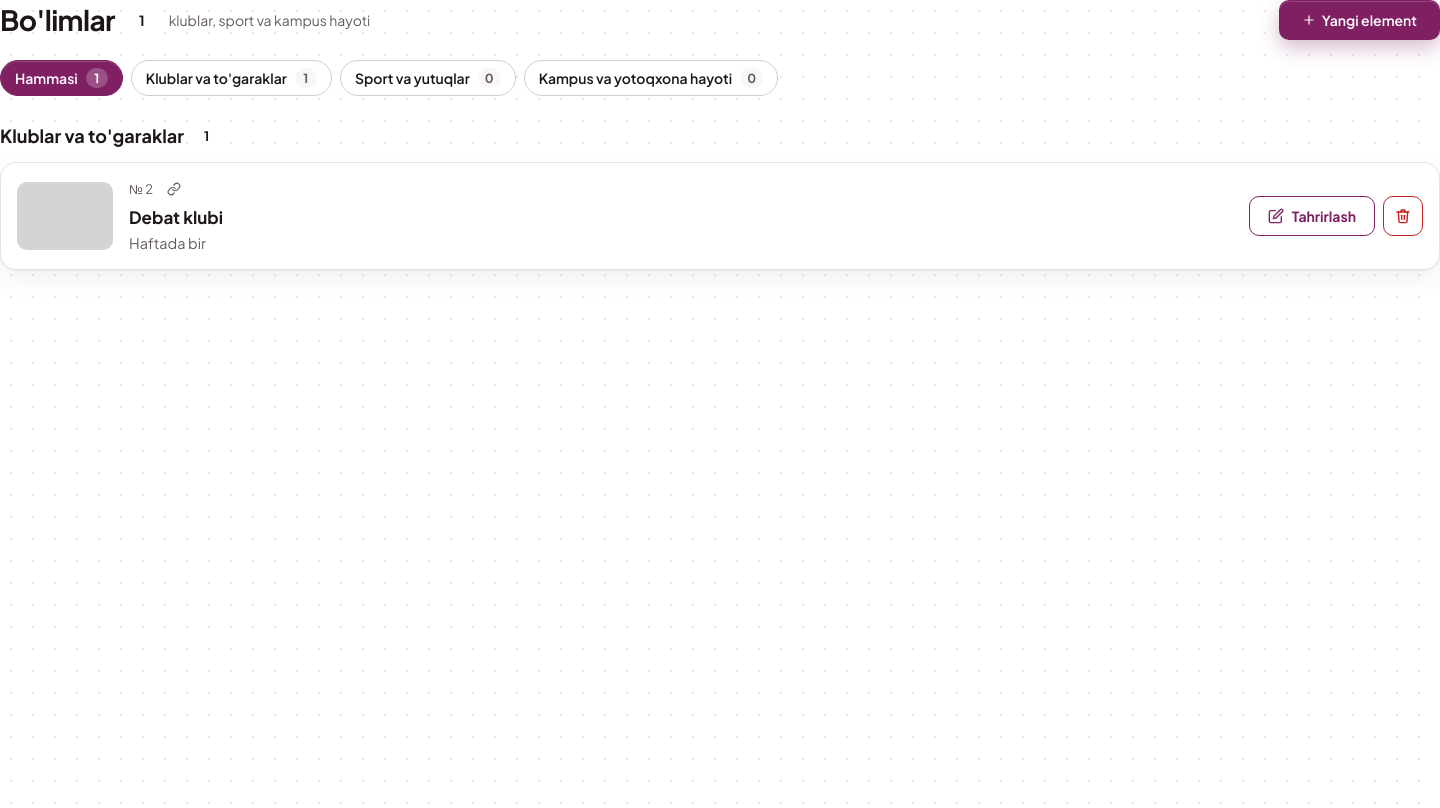
SectionsAdmin: forma › havola javascript:alert(1) rad etiladi (so'rov ketmaydi)
Expected: the heading "Debat klubi" is shown, 129,206 -> 223,228
Step 1. Click the button "Yangi element" → (1359,20), box 1279,0 -> 1439,40
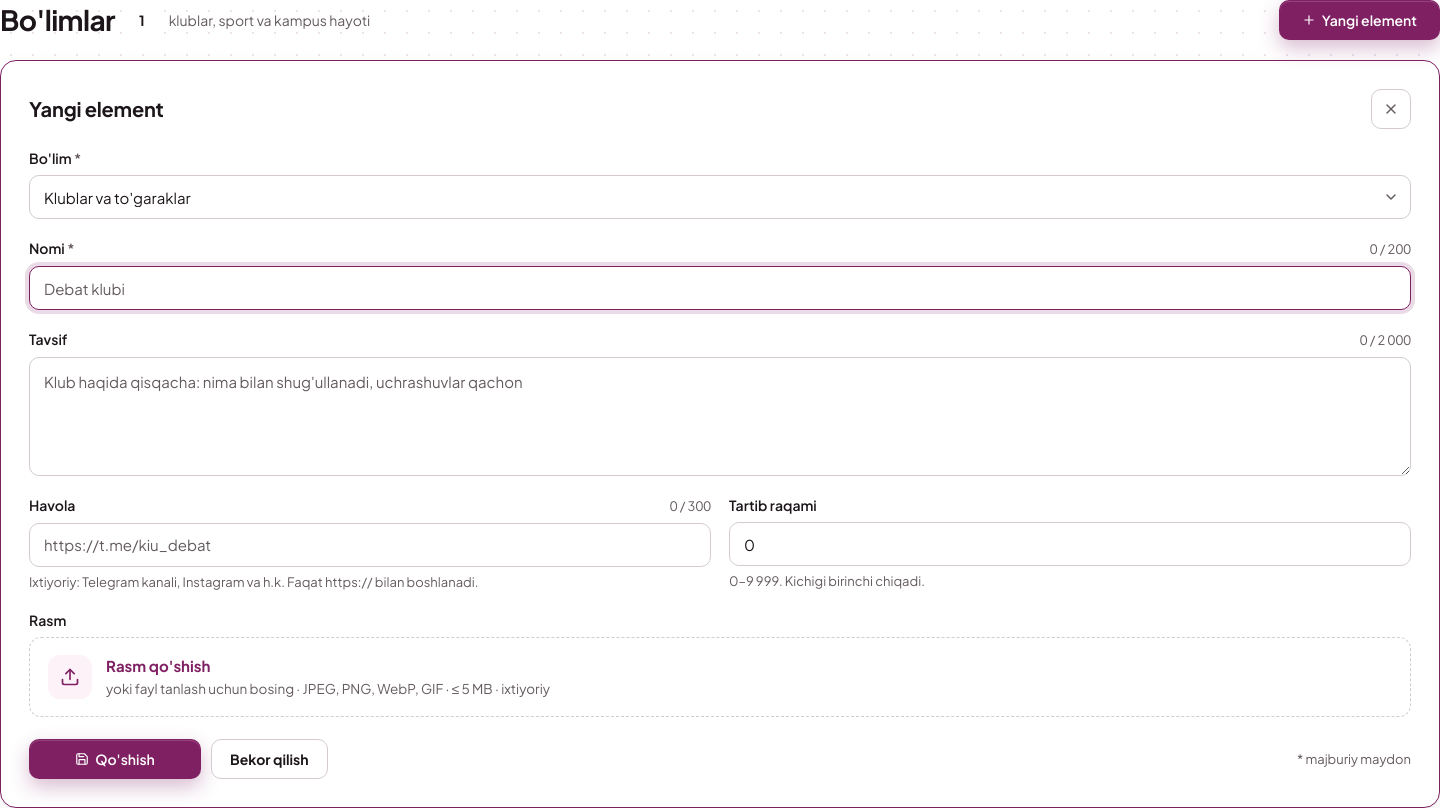
Step 2. Type "Klub" into the field labelled "Nomi *" → (720,288), box 29,266 -> 1411,310
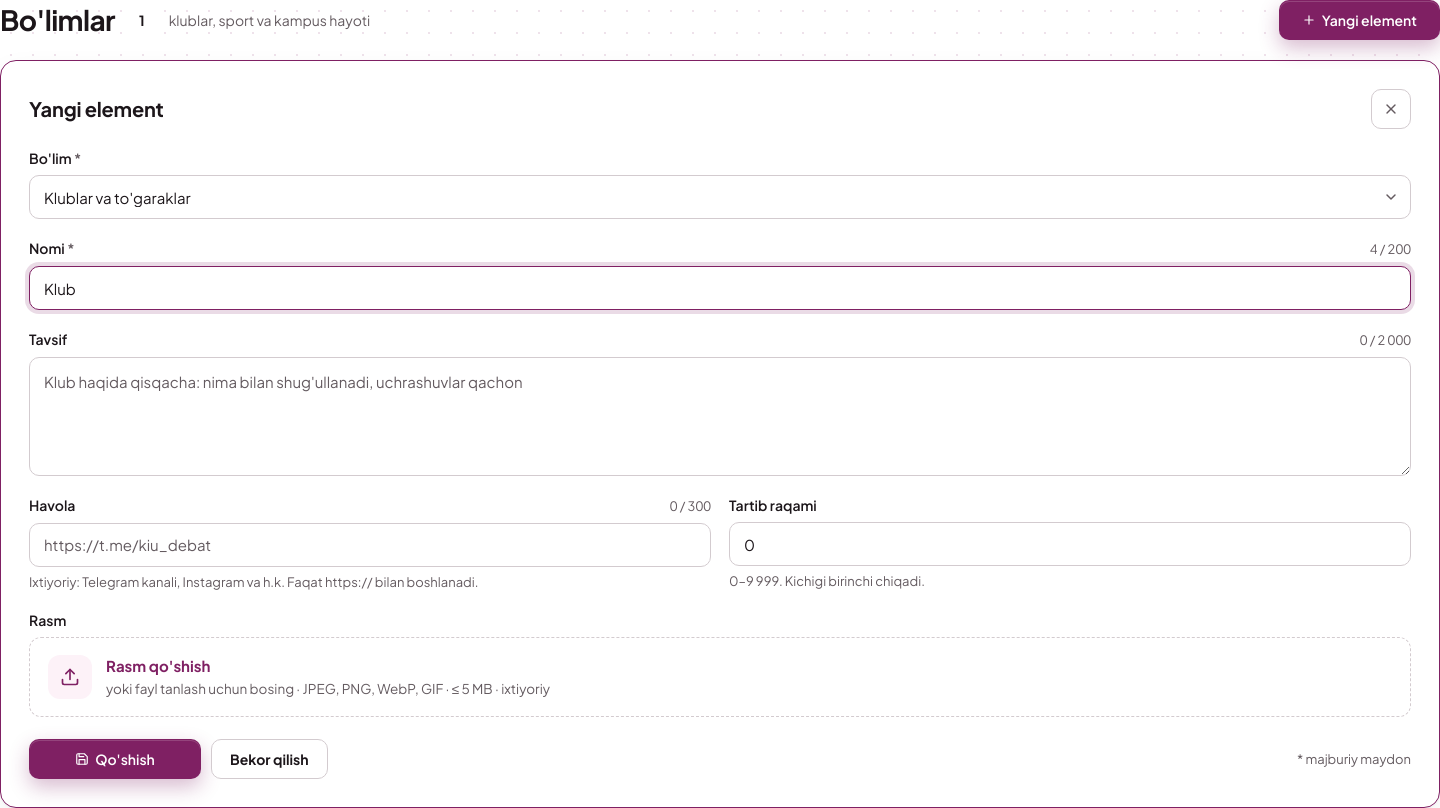
Step 3. Type "javascript:alert(1)" into the field labelled "Havola" → (370,545), box 29,523 -> 711,567
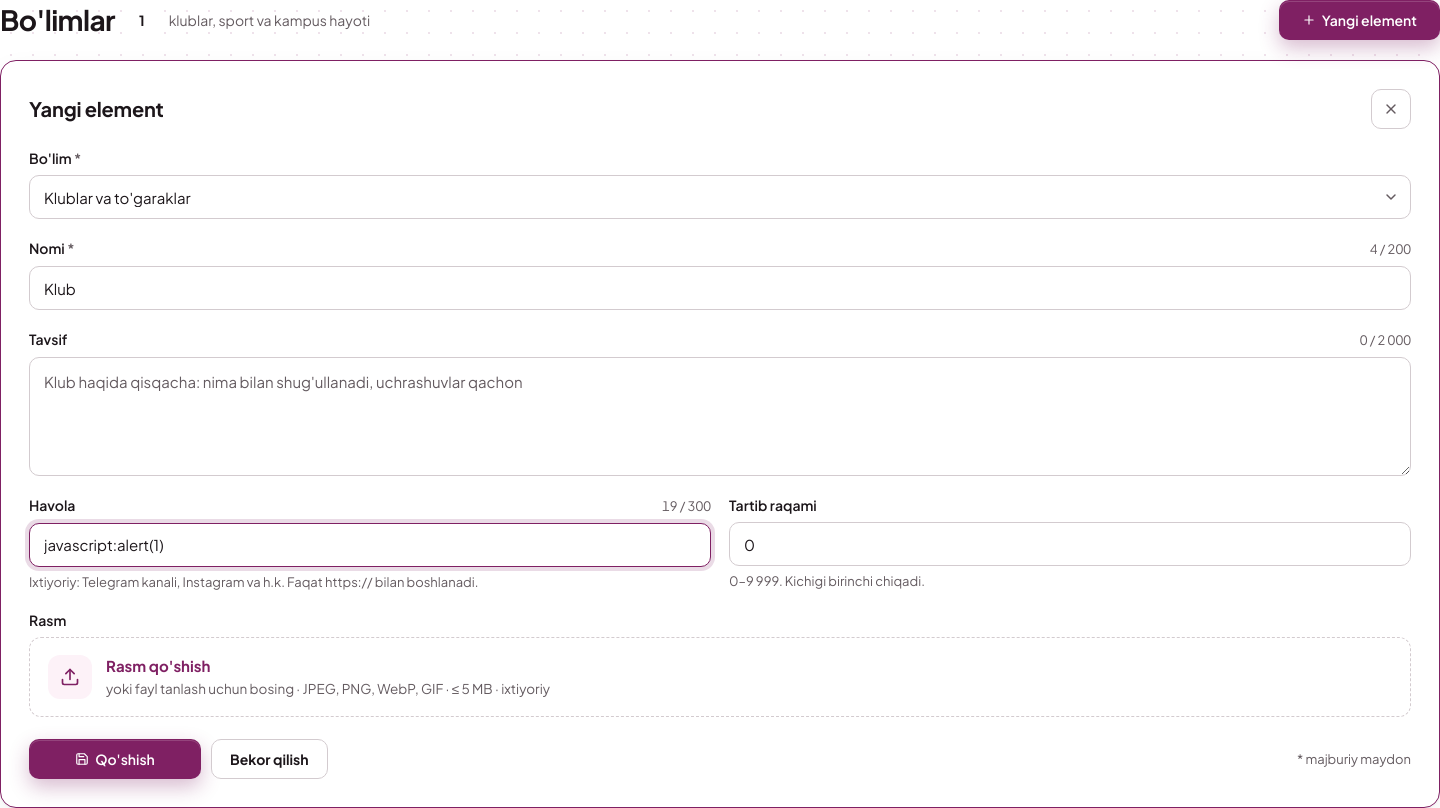
Step 4. Click the button "Qo'shish" → (115,759), box 29,739 -> 201,779
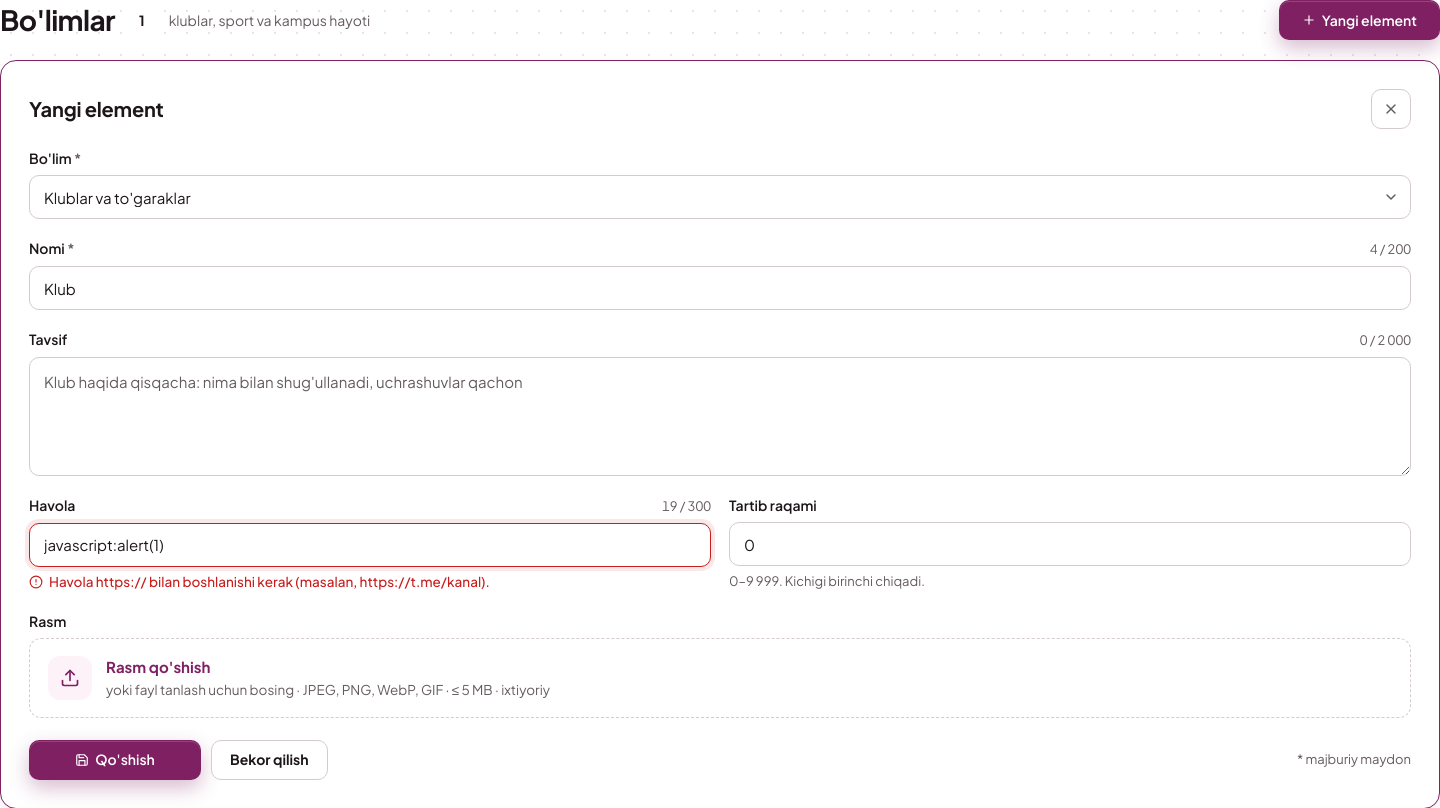
Result: the text "https:// bilan boshlanishi kerak" is shown at 49,573 -> 490,590
